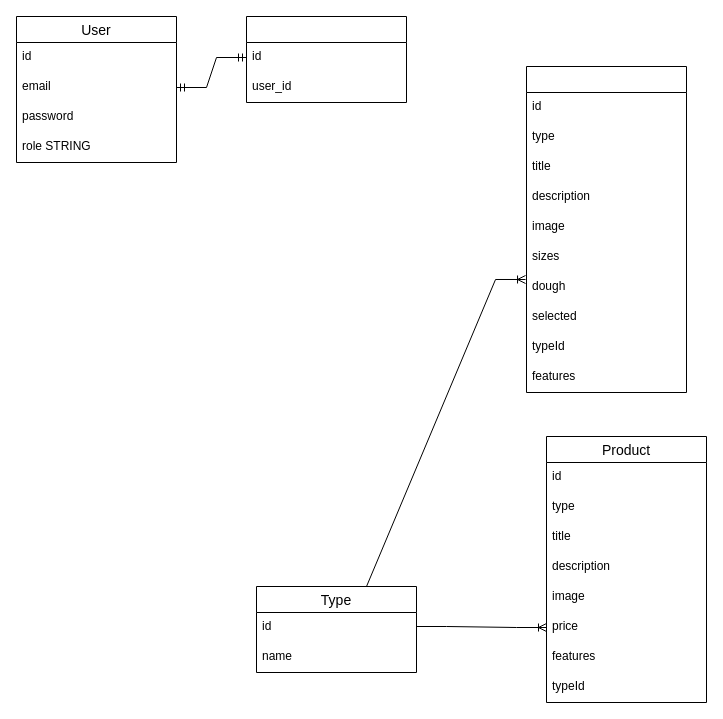
The diagram is 723 pixels wide and 719 high, and some of its shapes have lost their labels. The box of each missing label's shape, as (x1, y1, x2, y2) in pixels:
Basket: (246, 16, 406, 102)
Pizza: (526, 66, 686, 392)
